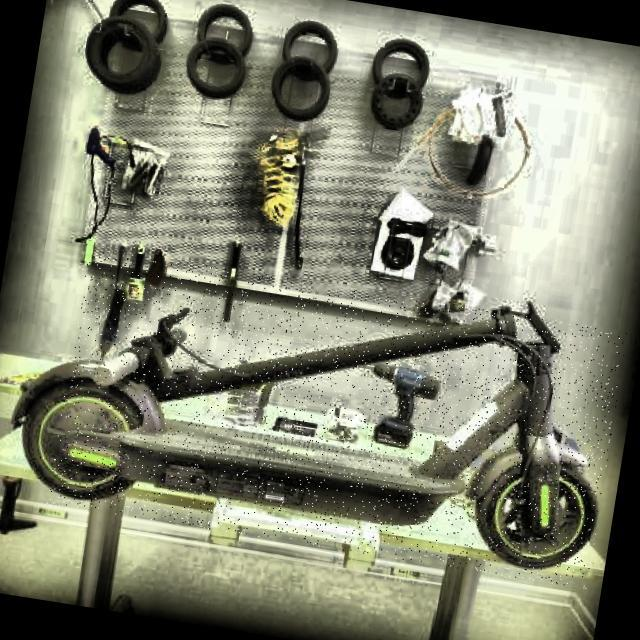bike: (11, 297, 598, 571)
car: (6, 296, 599, 571)
